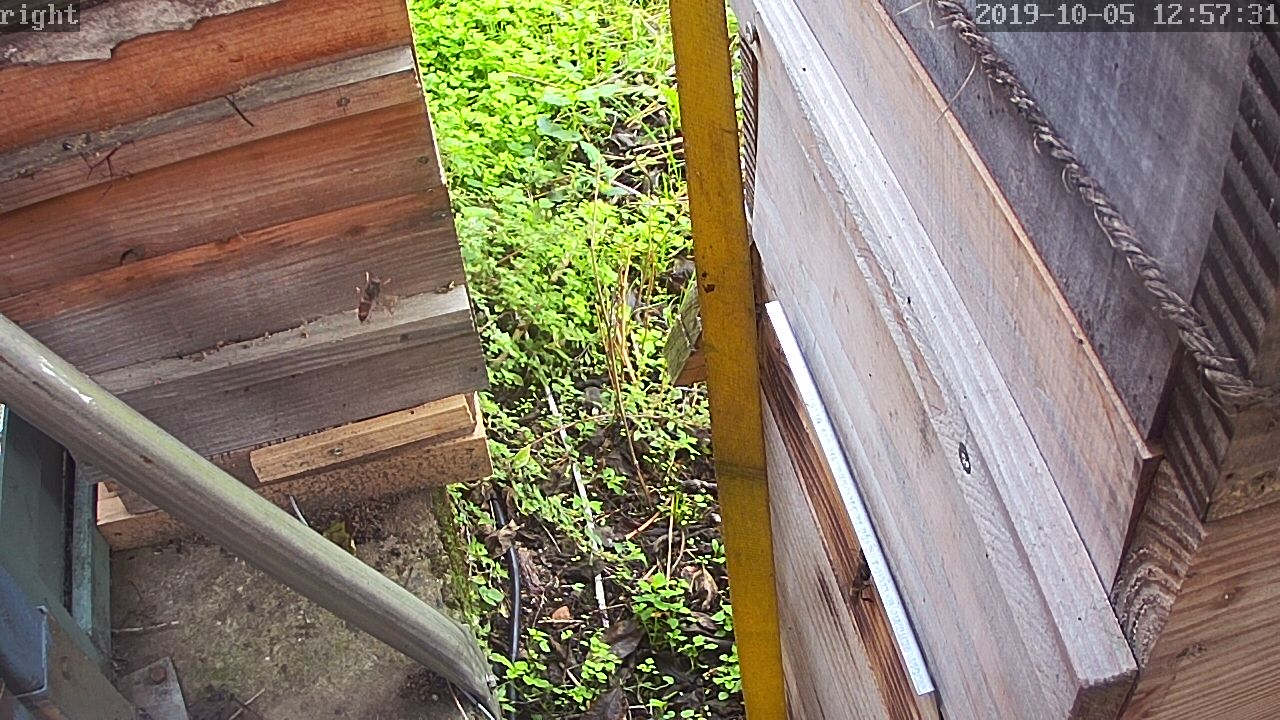bee: (843, 572, 877, 612), (846, 545, 874, 584)
hornet: (351, 263, 385, 324)
